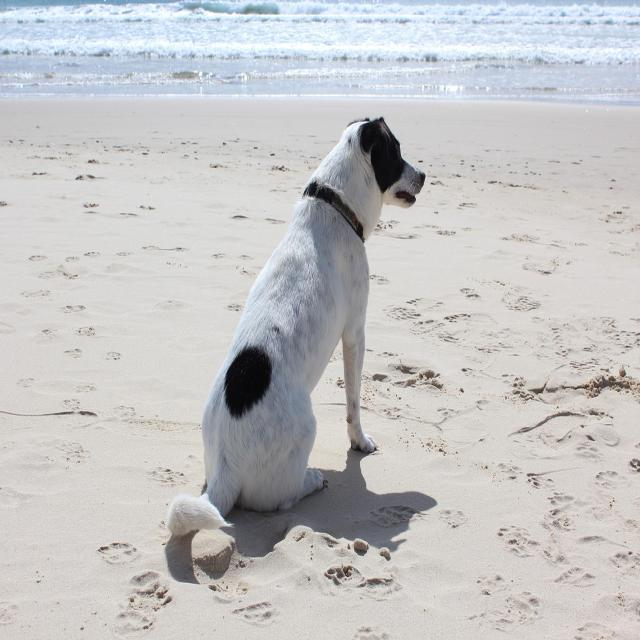dog: (167, 118, 426, 537)
